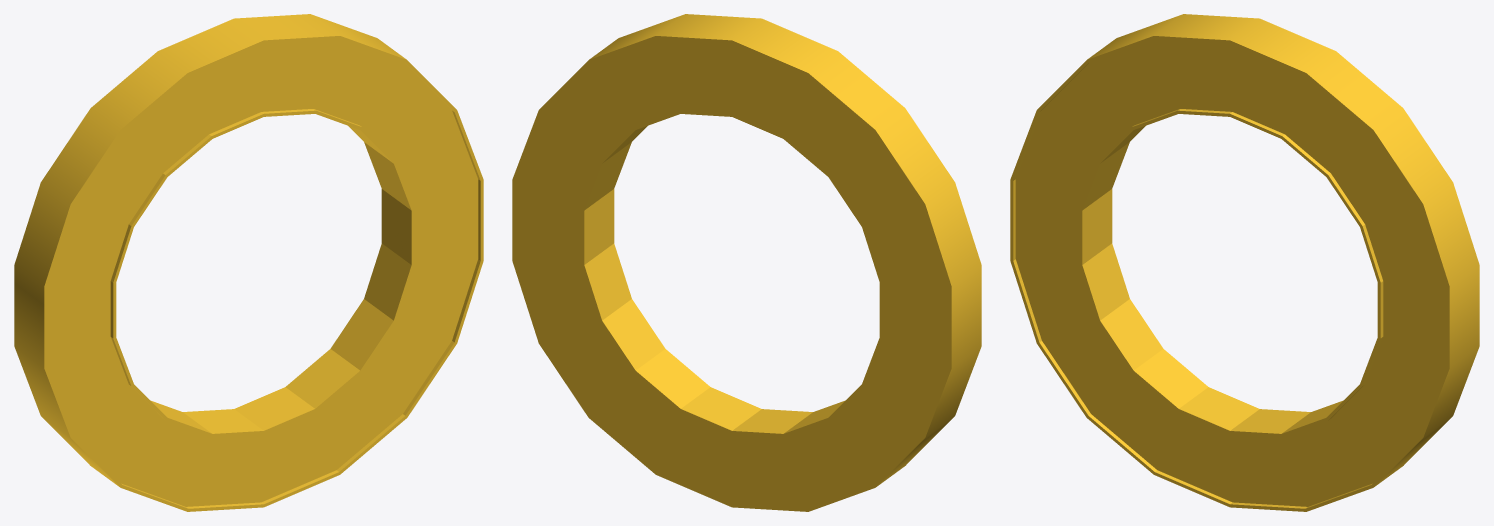
Rendered from original-62.obj.
The picture shows the model from 3 angles, left to right: view 1: azimuth 30°, elevation 25°; view 2: azimuth 150°, elevation 25°; view 3: azimuth 330°, elevation 25°; orthographic projection.
Visible parts, largest first — view 1: Group_5/mesh147/mesh147-geometry#mesh147-geometry; view 2: Group_5/mesh147/mesh147-geometry#mesh147-geometry; view 3: Group_5/mesh147/mesh147-geometry#mesh147-geometry.
Part boxes in pixels (box(x1,y1,x2,y2)): Group_5/mesh147/mesh147-geometry#mesh147-geometry: box(14, 14, 483, 511); Group_5/mesh147/mesh147-geometry#mesh147-geometry: box(512, 14, 981, 511); Group_5/mesh147/mesh147-geometry#mesh147-geometry: box(1010, 14, 1479, 511).
Size of the model in its own units: 0.1402 by 0.1423 by 0.0165.
